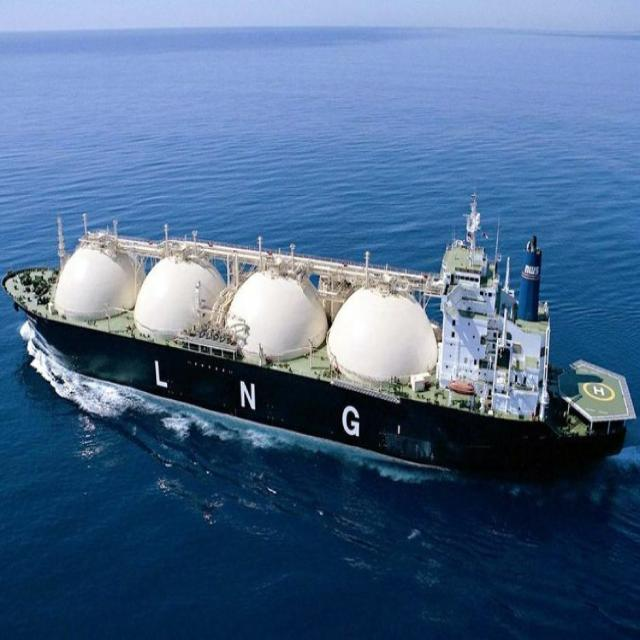boat: (2, 170, 640, 504)
